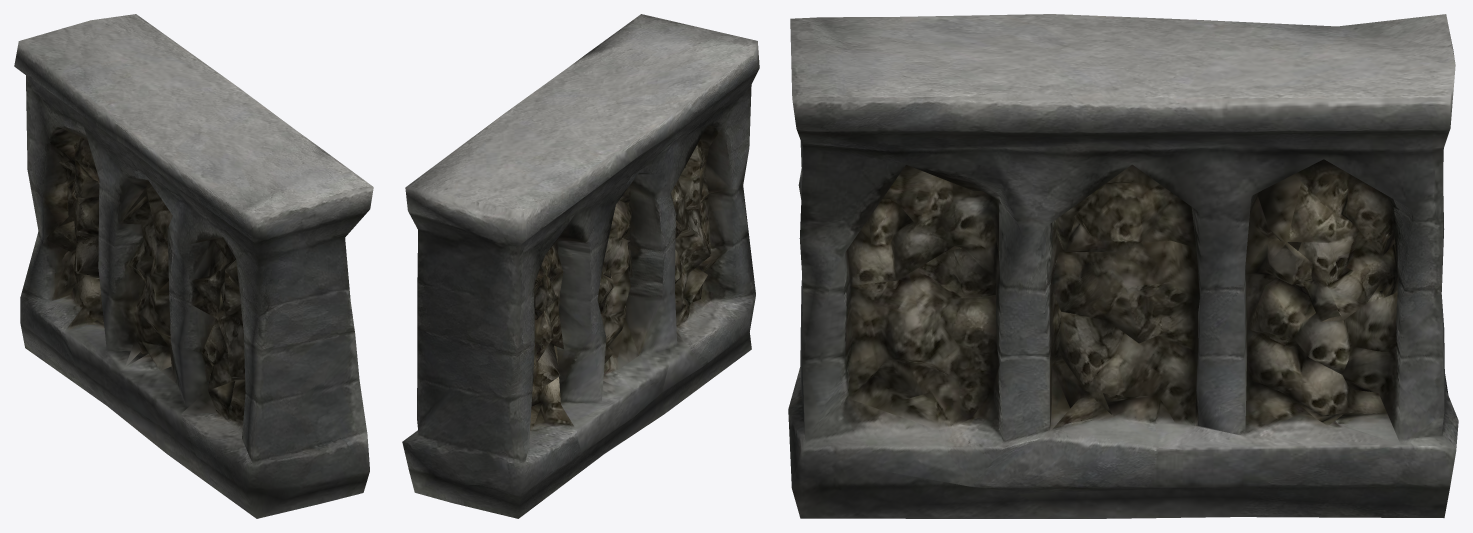
Rendered from skullwall.glb.
The picture shows the model from 3 angles, left to right: view 1: azimuth 30°, elevation 25°; view 2: azimuth 150°, elevation 25°; view 3: azimuth 270°, elevation 25°; orthographic projection. The views are drawn at different scales.
Parts seen in each view (by area): view 1: tripo_node_016a6c40-53f9-487b-8d04-1bb7cdab2a11; view 2: tripo_node_016a6c40-53f9-487b-8d04-1bb7cdab2a11; view 3: tripo_node_016a6c40-53f9-487b-8d04-1bb7cdab2a11.
Part boxes in pixels (x1,y1,x2,y2): tripo_node_016a6c40-53f9-487b-8d04-1bb7cdab2a11: [14, 14, 373, 518]; tripo_node_016a6c40-53f9-487b-8d04-1bb7cdab2a11: [402, 14, 759, 518]; tripo_node_016a6c40-53f9-487b-8d04-1bb7cdab2a11: [788, 14, 1458, 518].
Size of the model in its own units: 0.302 by 0.7061 by 1.
Materials: 1 (1 with a texture image).
